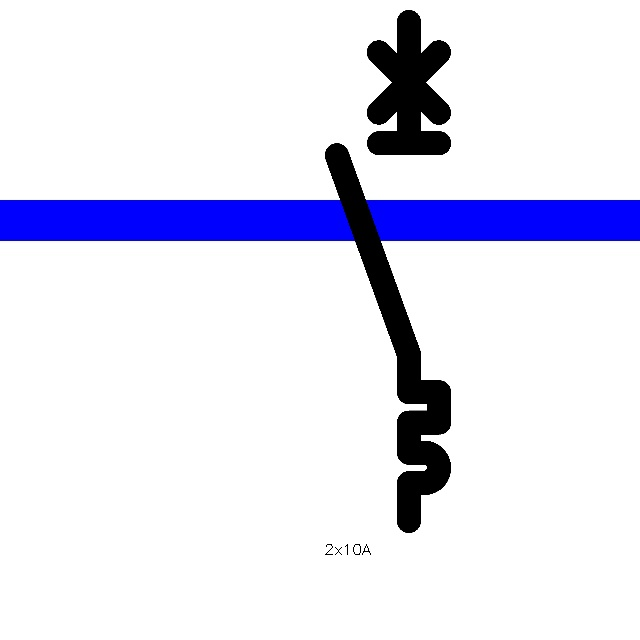interruptor_termomagnetico: (324, 9, 452, 534)
